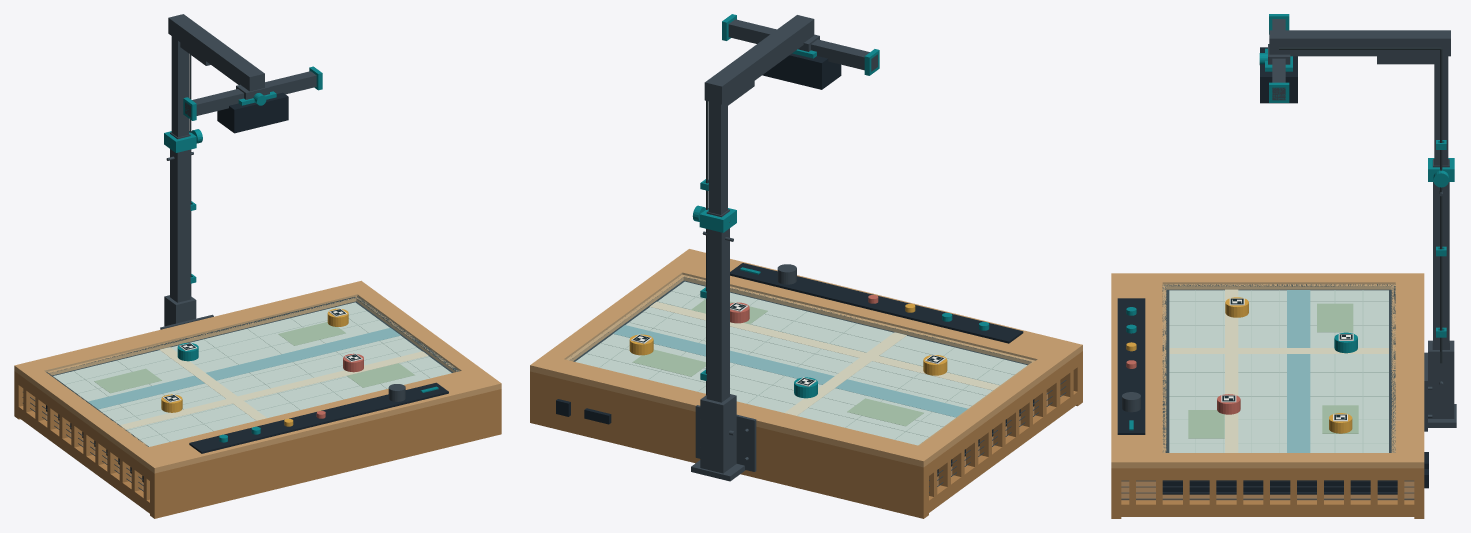
The model's file is skeye_compact.glb.
3 views of the same model, side by side, from view 1: azimuth 30°, elevation 25°; view 2: azimuth 150°, elevation 25°; view 3: azimuth 270°, elevation 25° (orthographic). The views are drawn at different scales.
Parts seen in each view (by area): view 1: Protective sheet — perimeter supported, Active screen 698 x 393, Oak front or rear wall, Oak rim side (×4), Rear rim (×2), Front control ledge (×2), Oak side rail (×2), Printed controller faceplate, Virtual river, Camera boom, Virtual zone (×3), Virtual road east-west (+8 smaller); view 2: Protective sheet — perimeter supported, Active screen 698 x 393, Oak front or rear wall, Oak rim side (×4), Front control ledge (×2), Rear rim (×2), Oak side rail (×2), Printed controller faceplate, Virtual river, Camera boom, Outer mast Y wall, Virtual road east-west (+11 smaller); view 3: Protective sheet — perimeter supported, Active screen 698 x 393, Oak rim side (×4), Oak side rail (×2), Front control ledge (×2), Rear rim (×2), Camera boom, Replaceable display envelope — mounting TBD, Virtual river, Printed controller faceplate, Virtual zone (×3), Outer mast X wall (+13 smaller).
Boxes of the visible parts, left/top/right/bottom form: Protective sheet — perimeter supported: left=45, top=295, right=460, bottom=446; Active screen 698 x 393: left=53, top=302, right=451, bottom=446; Oak front or rear wall: left=150, top=389, right=501, bottom=518; Oak rim side (×4): left=14, top=280, right=501, bottom=473; Rear rim (×2): left=31, top=285, right=357, bottom=375; Front control ledge (×2): left=148, top=371, right=484, bottom=468; Oak side rail (×2): left=18, top=374, right=149, bottom=513; Printed controller faceplate: left=189, top=382, right=448, bottom=453; Virtual river: left=88, top=328, right=400, bottom=409; Camera boom: left=168, top=14, right=264, bottom=91; Virtual zone (×3): left=94, top=322, right=414, bottom=393; Virtual road east-west: left=120, top=351, right=428, bottom=429; Protective sheet — perimeter supported: left=567, top=273, right=1034, bottom=444; Active screen 698 x 393: left=575, top=281, right=1027, bottom=445; Oak front or rear wall: left=530, top=371, right=928, bottom=518; Oak rim side (×4): left=530, top=249, right=1082, bottom=467; Front control ledge (×2): left=682, top=255, right=1063, bottom=364; Rear rim (×2): left=549, top=359, right=918, bottom=461; Oak side rail (×2): left=929, top=355, right=1077, bottom=512; Printed controller faceplate: left=730, top=263, right=1023, bottom=343; Virtual river: left=613, top=325, right=967, bottom=417; Camera boom: left=704, top=15, right=814, bottom=104; Outer mast Y wall: left=707, top=212, right=720, bottom=402; Virtual road east-west: left=650, top=301, right=999, bottom=390; Protective sheet — perimeter supported: left=1163, top=283, right=1394, bottom=452; Active screen 698 x 393: left=1169, top=290, right=1388, bottom=452; Oak rim side (×4): left=1111, top=273, right=1424, bottom=468; Oak side rail (×2): left=1121, top=468, right=1414, bottom=516; Front control ledge (×2): left=1111, top=282, right=1166, bottom=452; Rear rim (×2): left=1391, top=282, right=1424, bottom=452; Camera boom: left=1269, top=30, right=1450, bottom=56; Replaceable display envelope — mounting TBD: left=1162, top=289, right=1397, bottom=494; Virtual river: left=1287, top=290, right=1310, bottom=452; Printed controller faceplate: left=1117, top=298, right=1145, bottom=434; Virtual zone (×3): left=1188, top=303, right=1358, bottom=438; Outer mast X wall: left=1433, top=165, right=1449, bottom=349.
Size of the model in its own units: 0.8 by 0.7775 by 0.6175.
